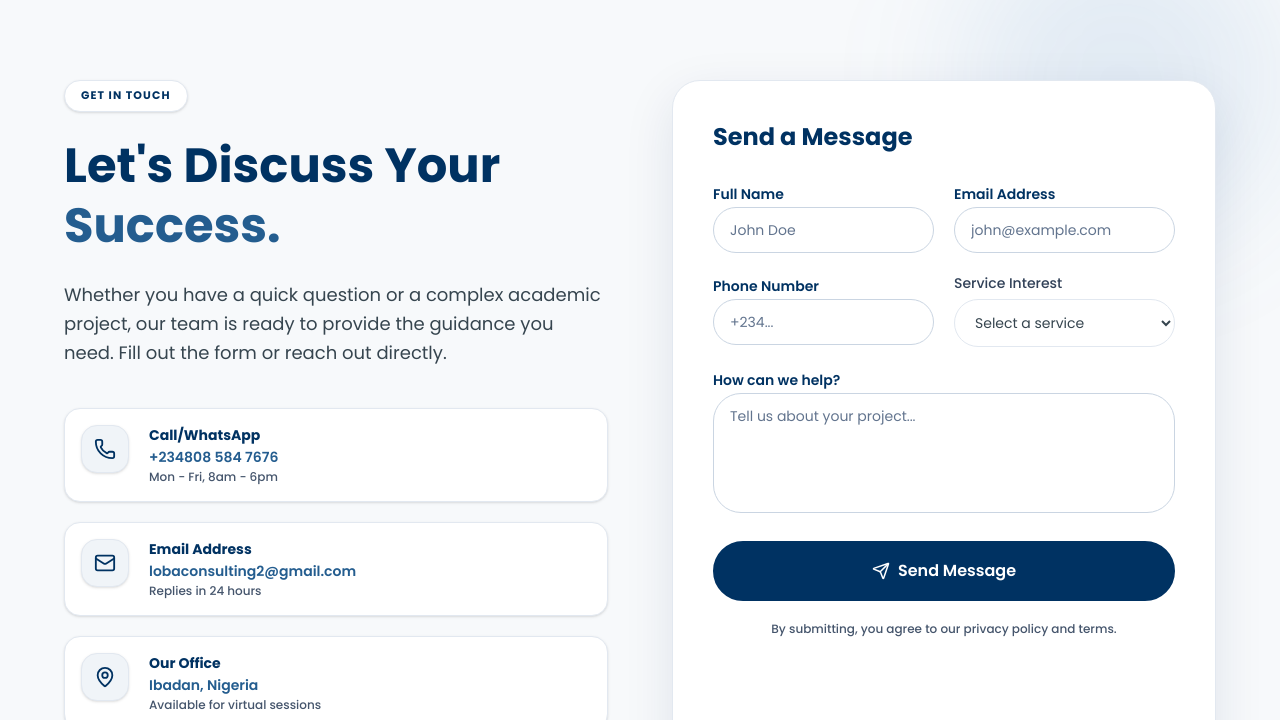
Test: Contact Form › should validate required fields
This screenshot has width=1280, height=720.
Click the button "Send Message" at (944, 571), box x1=713 y1=541 x2=1175 y2=601
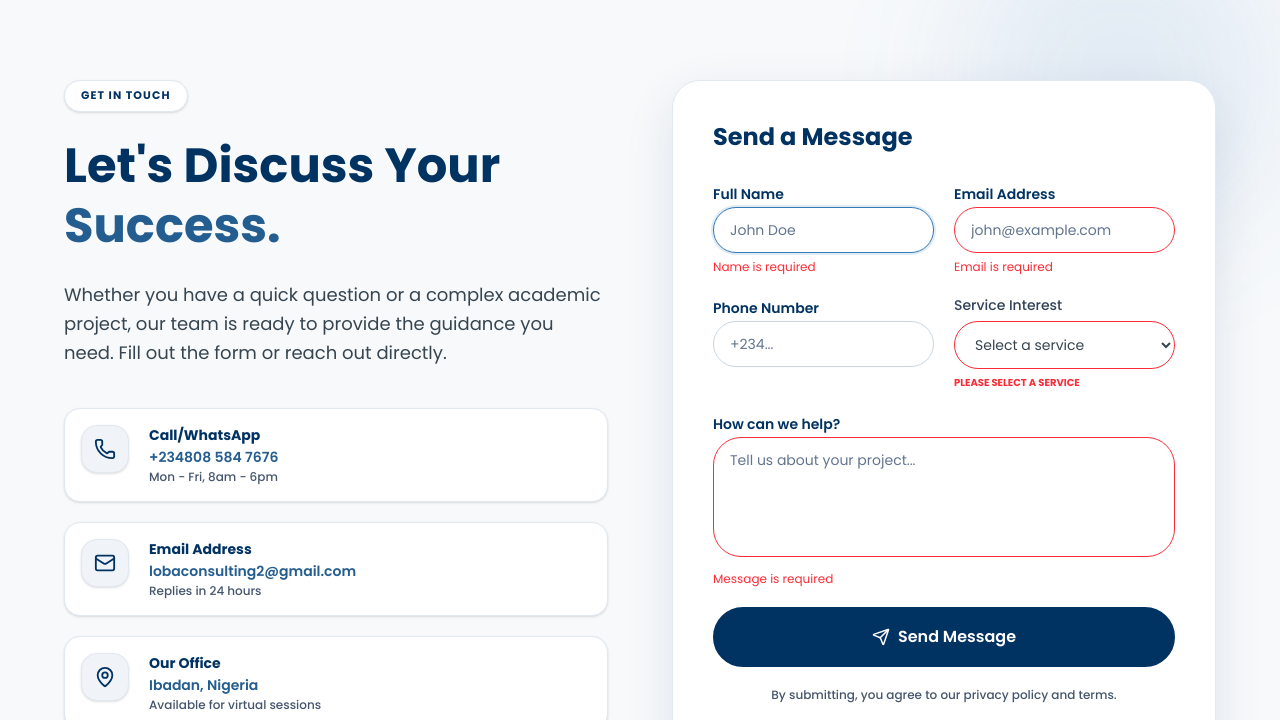
Check: the text "Name is required" is shown, box x1=713 y1=258 x2=816 y2=275
